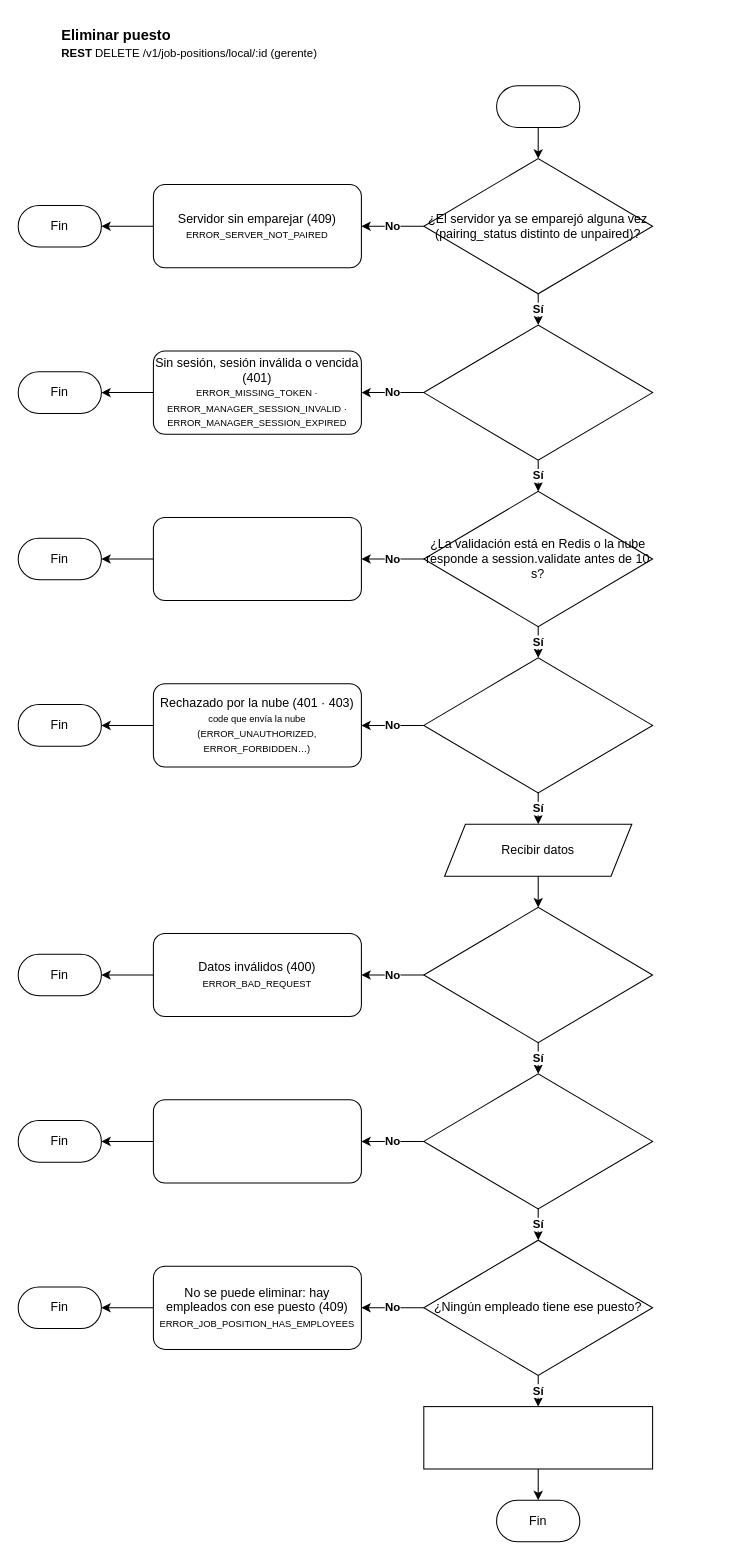
This 744x1560 diagram has some shape labels left out. Each missing label, with the centre of its shape:
"Inicio" belongs at (538,106).
"La nube no responde (503) ERROR_CLOUD_UNAVAILABLE · ERROR_SERVER_UNLINKED" belongs at (256,558).
"No se encontró el puesto (404) ERROR_JOB_POSITION_NOT_FOUND" belongs at (256,1141).
"Responder 200 con el mensaje JOB_POSITION_DELETED" belongs at (538,1437).
"¿Existe el puesto?" belongs at (538,1141).
"¿La nube acepta la sesión del gerente con este servidor?" belongs at (538,725).
"¿Los datos son válidos?" belongs at (538,974).
"¿Trae una sesión de gerente válida (Bearer mss_..., sin 30 min de inactividad)?" belongs at (538,392).
